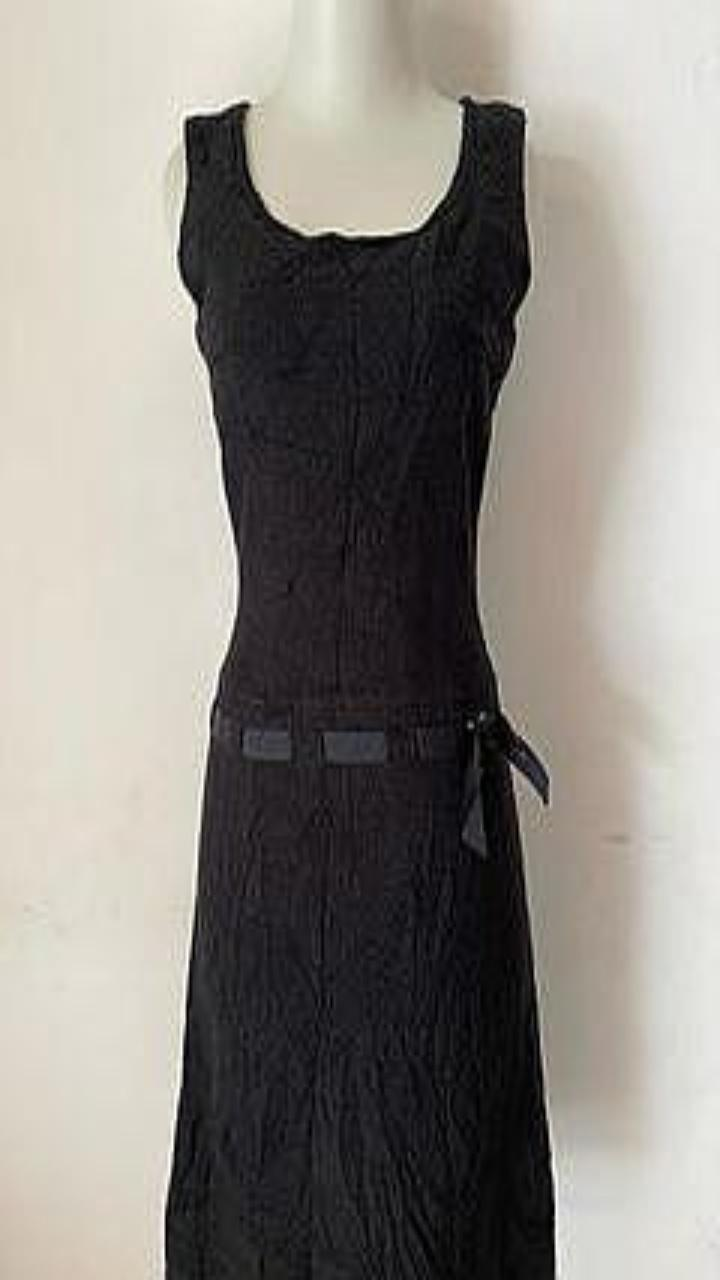Dresses: (165, 95, 554, 1279)
